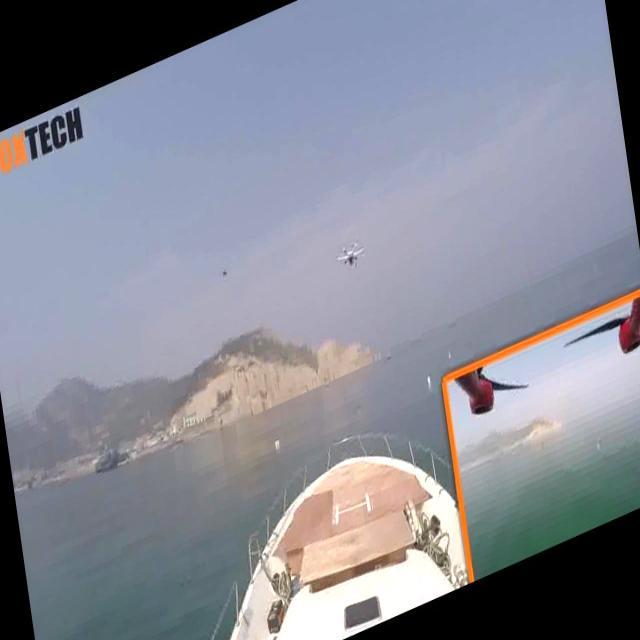drone: (326, 228, 373, 280), (215, 262, 239, 286)
